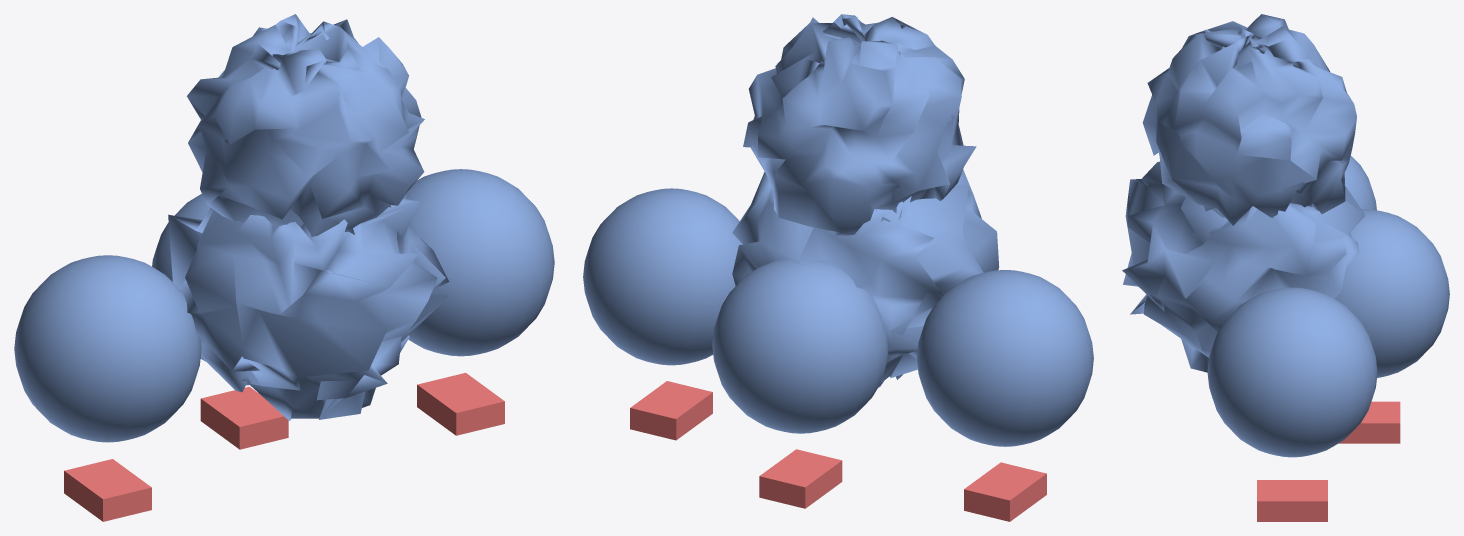
Rendered from clay_baby_shark_trio.glb.
3 views of the same model, side by side, from view 1: azimuth 30°, elevation 25°; view 2: azimuth 150°, elevation 25°; view 3: azimuth 270°, elevation 25° (orthographic). The views are drawn at different scales.
Visible parts, largest first — view 1: sneaker.002; view 2: sneaker.002; view 3: sneaker.002.
Boxes of the visible parts, box(x1,y1,x2,y2) form: sneaker.002: box(14, 14, 554, 521); sneaker.002: box(583, 14, 1093, 521); sneaker.002: box(1122, 14, 1449, 521).
Size of the model in its own units: 1.9 by 1.59 by 1.16.
